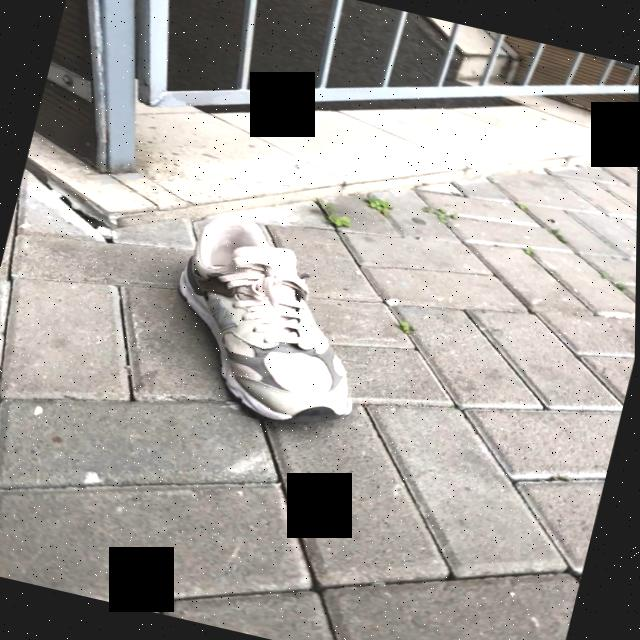shoe: (179, 215, 351, 423)
